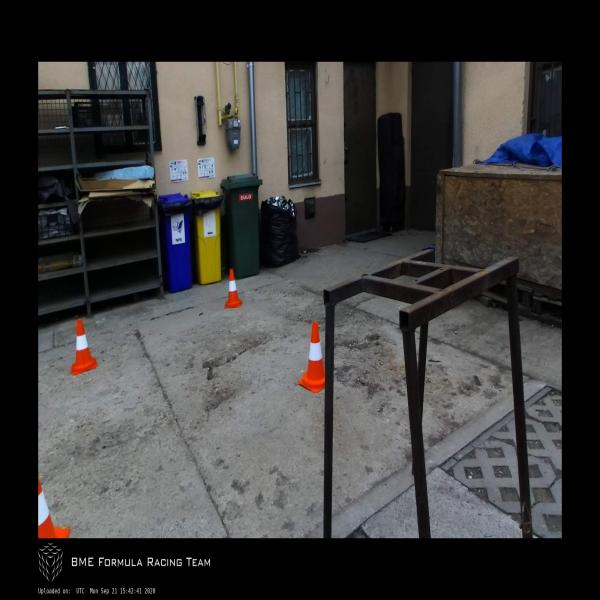orange_cone: (38, 473, 70, 538), (299, 322, 325, 393), (71, 318, 98, 376), (224, 268, 242, 309)
